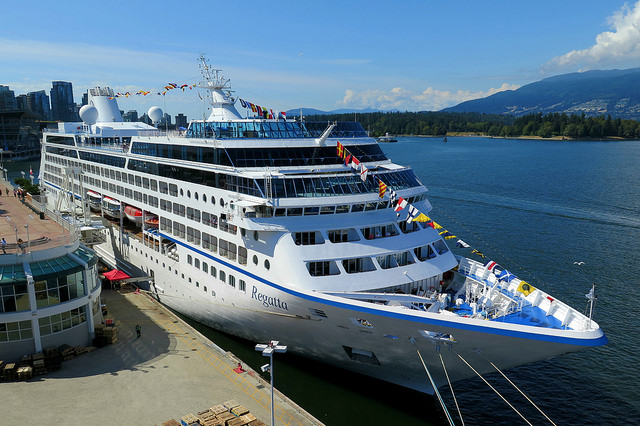cruise_ship: (37, 81, 600, 365)
